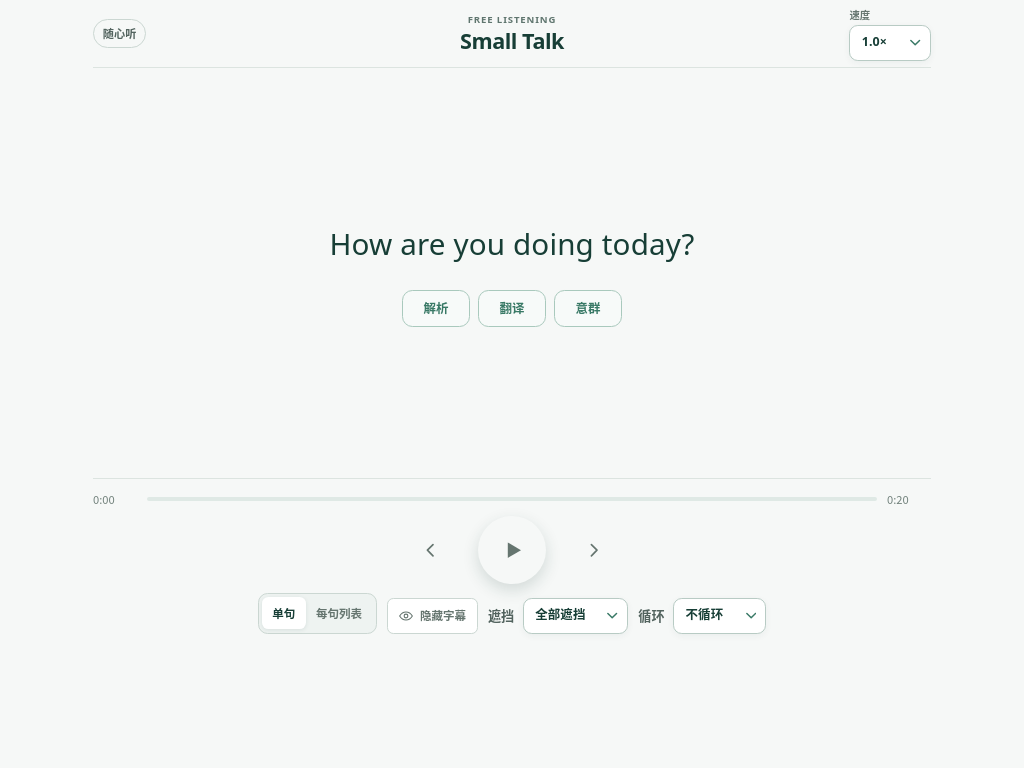
it: FreeListening › starts in single-sentence mode and restores help controls after showing text again
Check: the text "How are you doing today?" is shown, box [329,223,695,264]
Check: the button "解析" is shown, box [402,290,470,327]
Step 1. Click the button "隐藏字幕" → {"x": 432, "y": 616}, box [387,598,478,634]
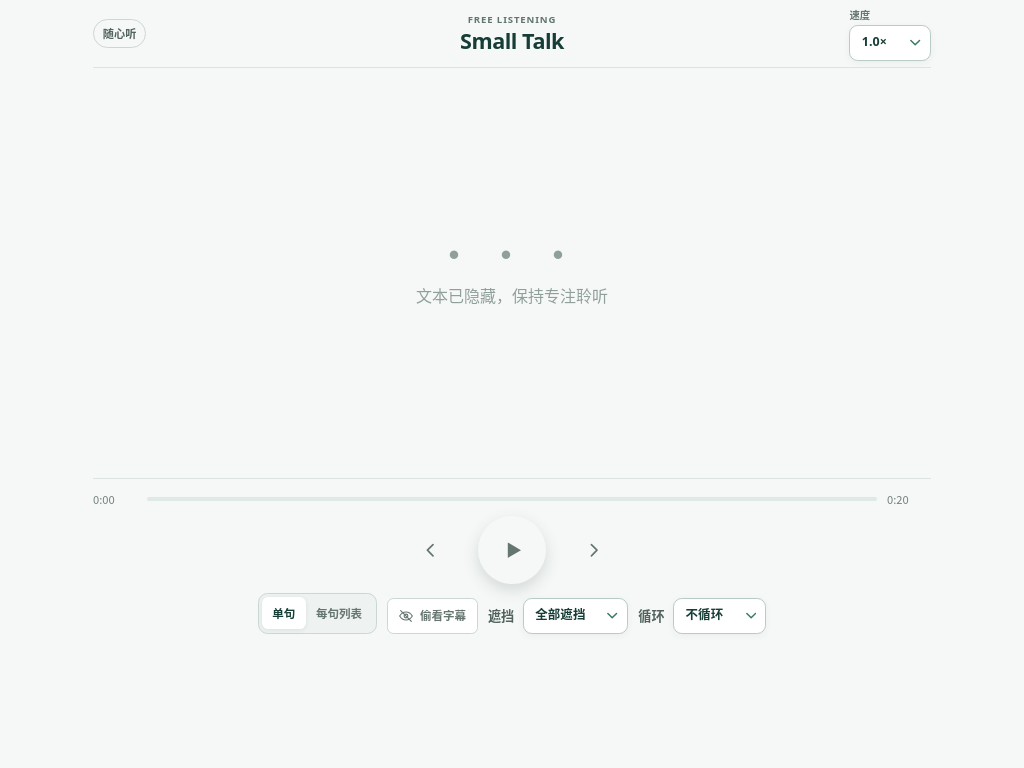
Check: the text "How are you doing today?" is gone
Check: the button "解析" is gone
Step 2. Click the button "偷看字幕" → {"x": 432, "y": 616}, box [387,598,478,634]
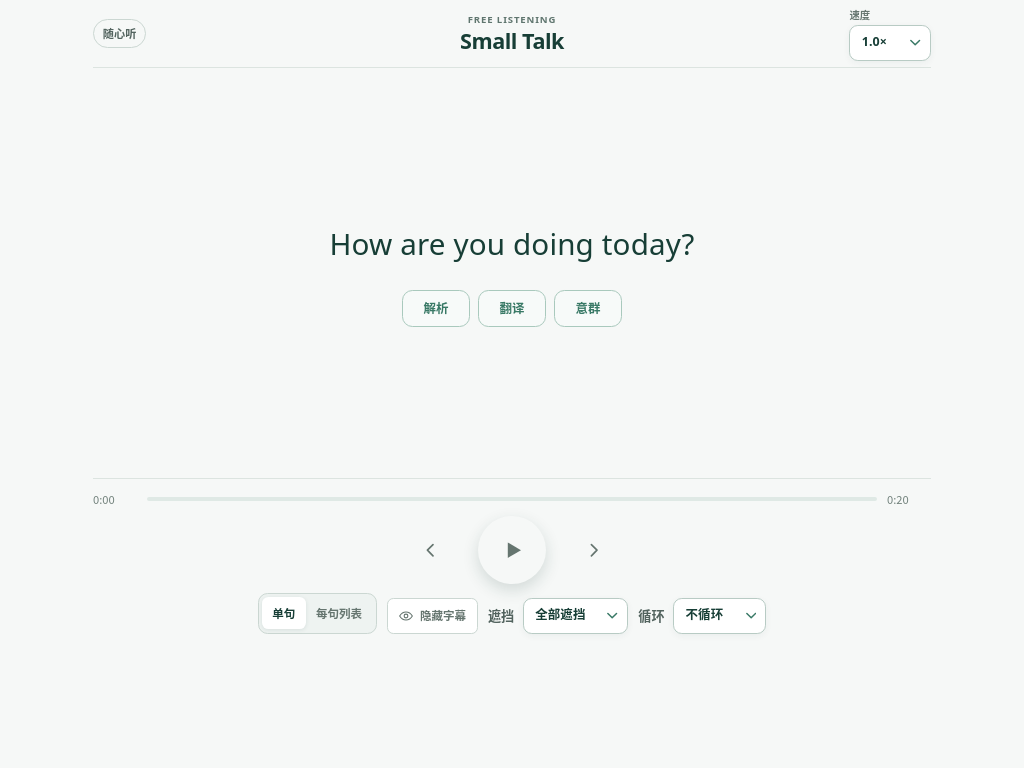
Check: the button "解析" is shown, box [402,290,470,327]
